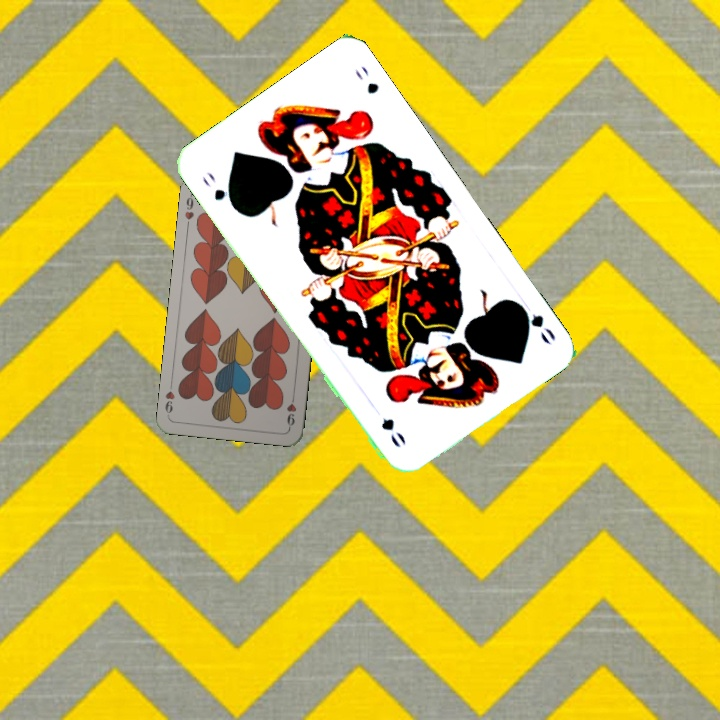GO: (512, 298, 559, 348), (198, 167, 239, 213)
H9: (180, 189, 196, 230), (283, 390, 299, 430)
